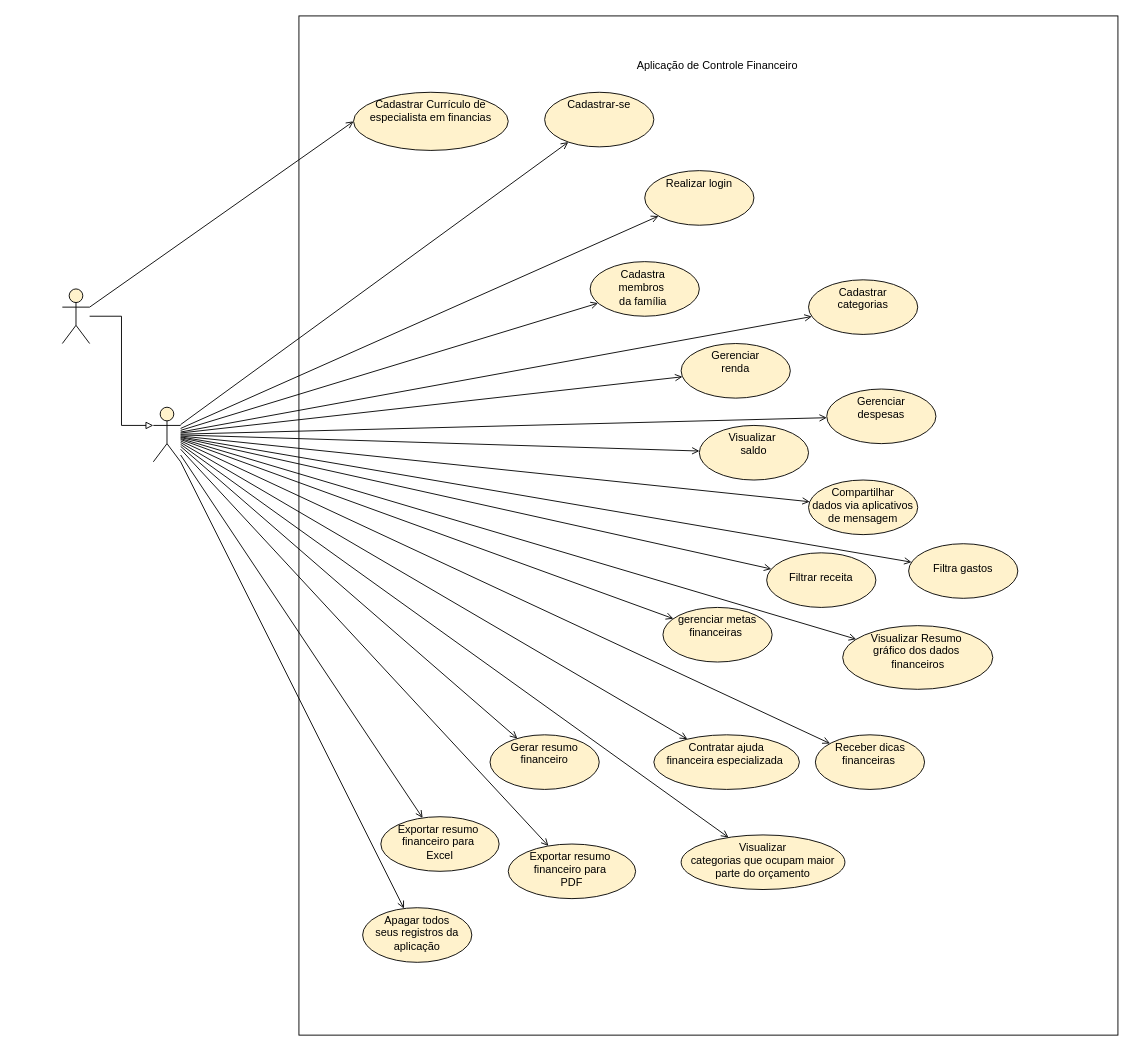
Some shapes in this 1134 by 1051 pixel diagram are drawn without their labels. The shapes that lost their labels are listed below. From the top down, each one's box as (x1, y1, x2, y2) in pixels, then its label:
(61, 288, 90, 344): especialista em financias
(152, 406, 181, 462): Cliente
